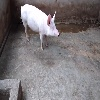heo: (19, 2, 62, 50)
